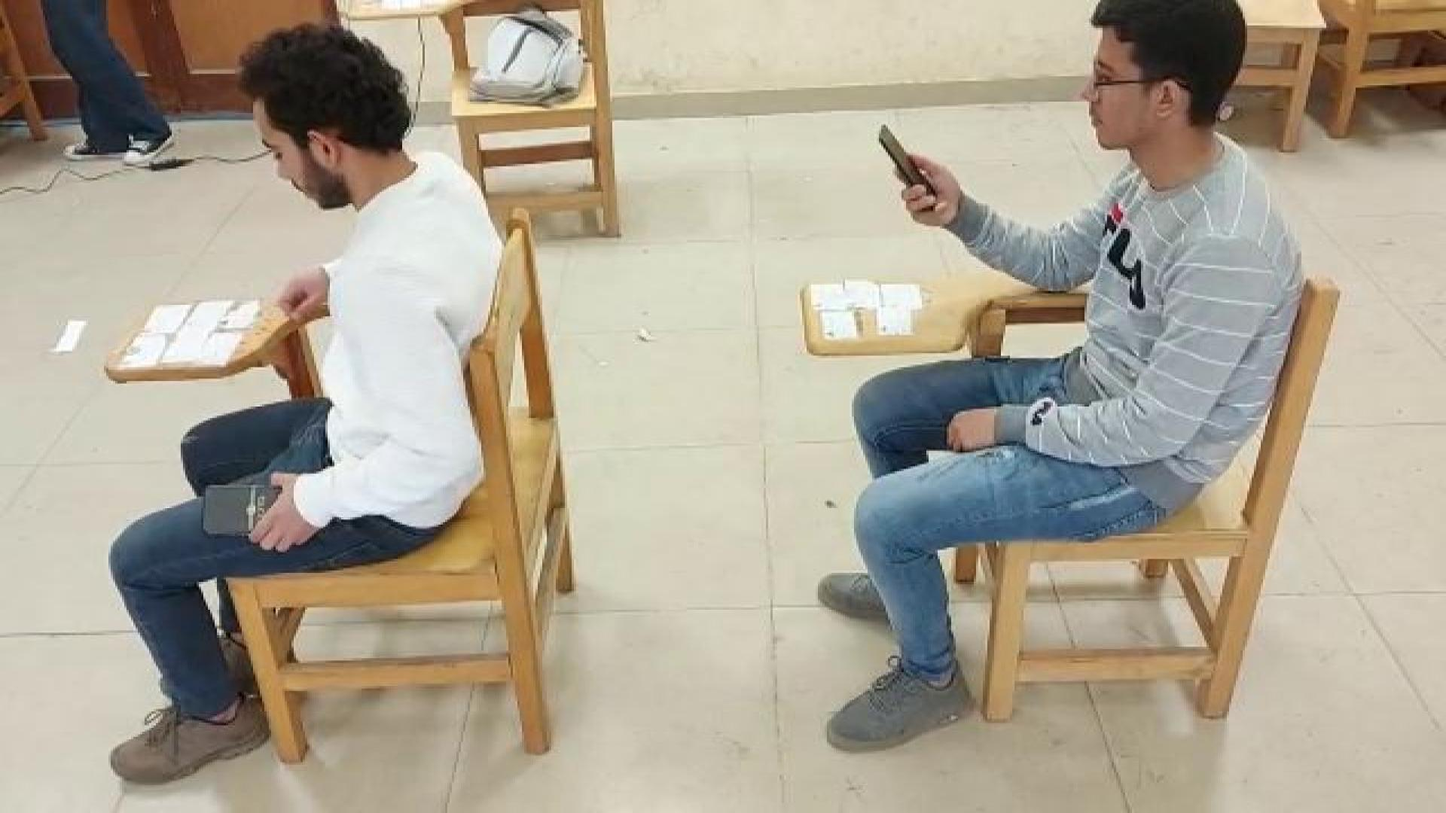phone: (868, 110, 947, 222), (194, 473, 314, 545)
